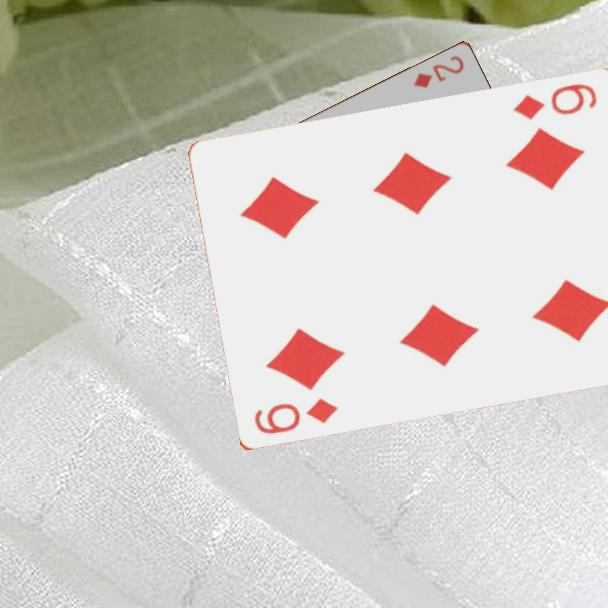d02: (410, 51, 467, 90)
d06: (509, 80, 600, 124), (250, 395, 340, 438)
